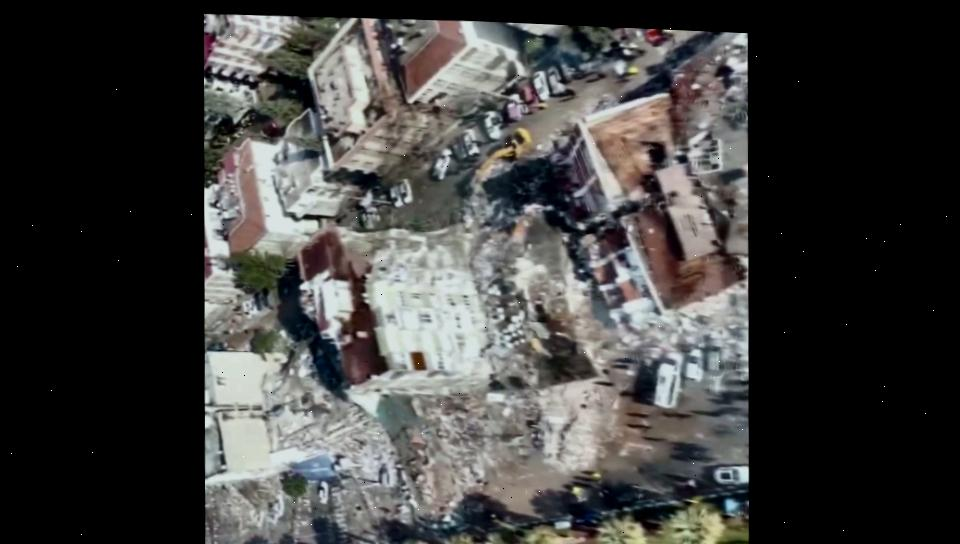kapali: (331, 404, 541, 544)
